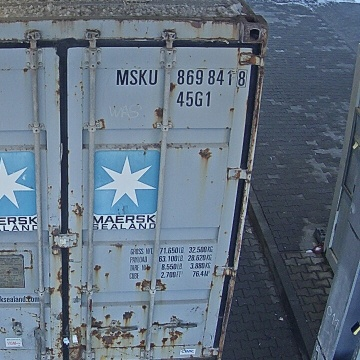serial_id: (116, 70, 245, 86)
